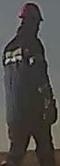gloves: (42, 94, 58, 125)
helmet: (18, 2, 45, 22)
vest: (3, 35, 49, 123)
